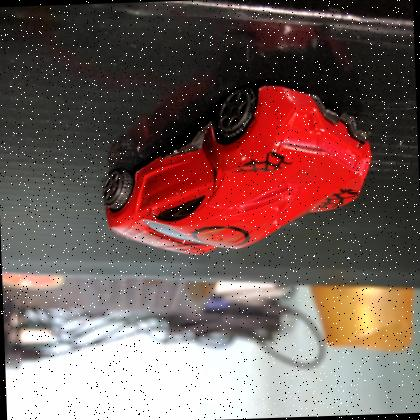Car: (89, 74, 382, 264)
